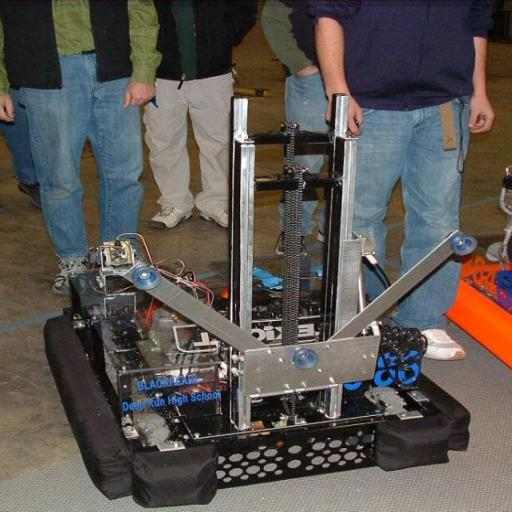robot: (42, 92, 474, 502)
